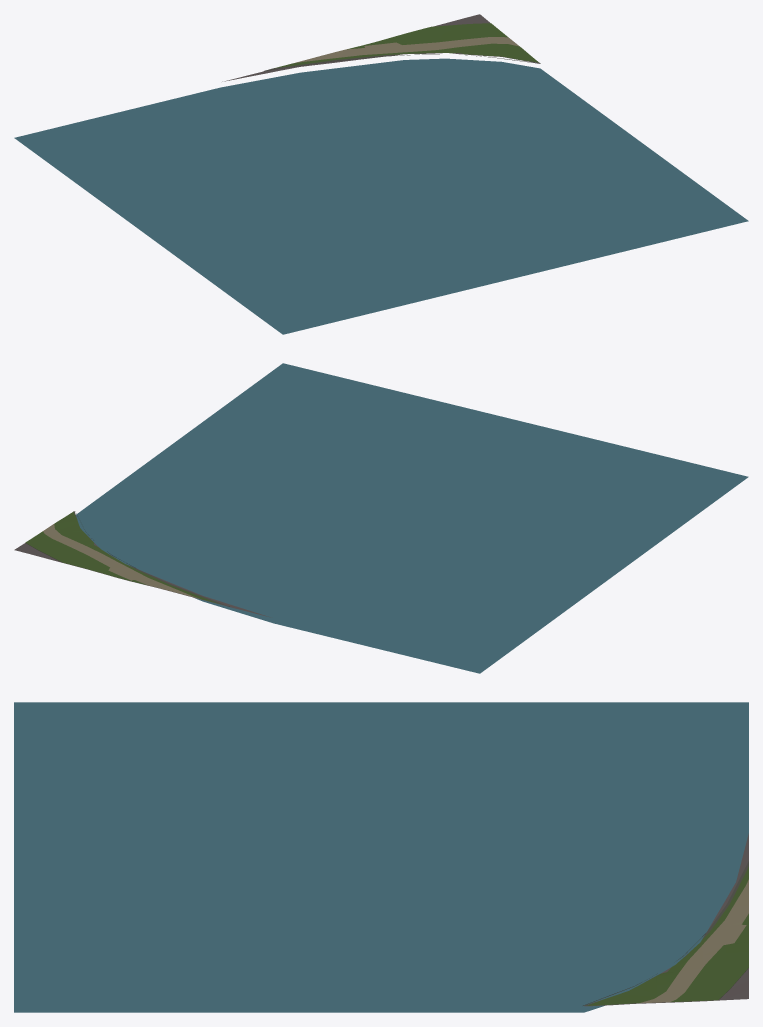
3 views of the same model, one above another, from view 1: azimuth 30°, elevation 25°; view 2: azimuth 150°, elevation 25°; view 3: azimuth 270°, elevation 25° (orthographic). The views are drawn at different scales.
Visible parts, largest first — view 1: c_m18_m01; view 2: c_m18_m01; view 3: c_m18_m01.
Part boxes in pixels (x1=…): c_m18_m01: x1=14, y1=14, x2=748, y2=334; c_m18_m01: x1=14, y1=363, x2=748, y2=673; c_m18_m01: x1=14, y1=702, x2=748, y2=1012.
Bounding box in the file's own units: 128 × 2.64 × 128.
